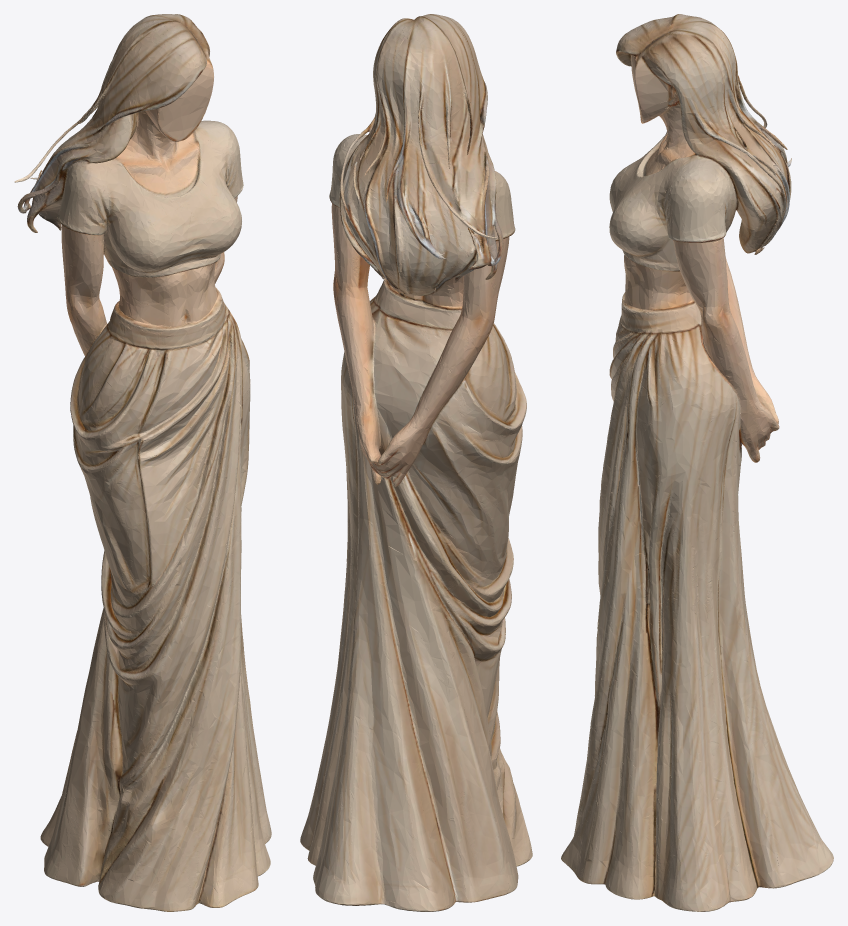
File: other-shapewear.optimized.glb
3 renders of one model, left to right at view 1: azimuth 30°, elevation 25°; view 2: azimuth 150°, elevation 25°; view 3: azimuth 270°, elevation 25°, orthographic.
Visible parts, largest first — view 1: world; view 2: world; view 3: world.
Part boxes in pixels (x1,y1,x2,y2): world: (14,14,271,911); world: (300,14,532,911); world: (561,14,833,911).
Bounding box in the file's own units: 0.5529 × 1.99 × 0.5831.
1 material, 1 textured.
